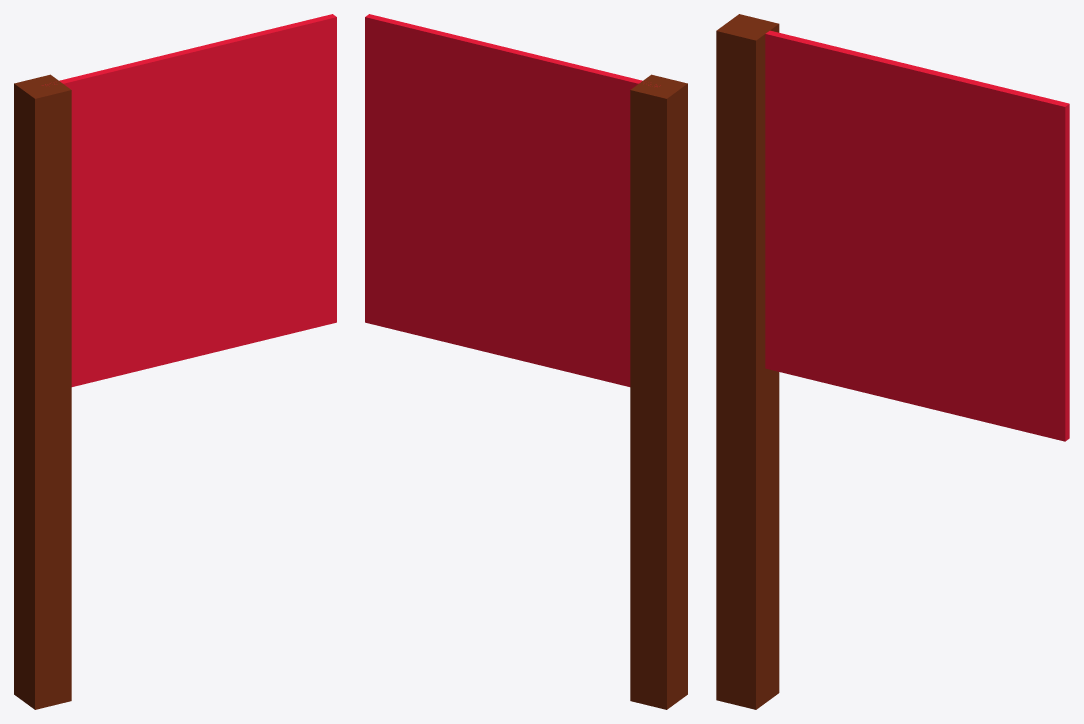
The model's file is WinFlag.fbx.
3 renders of one model, left to right at view 1: azimuth 30°, elevation 25°; view 2: azimuth 150°, elevation 25°; view 3: azimuth 330°, elevation 25°, orthographic. The views are drawn at different scales.
Parts seen in each view (by area): view 1: Cube.002, Cube.001; view 2: Cube.002, Cube.001; view 3: Cube.002, Cube.001.
Part boxes in pixels (bbox=[...]): Cube.002: bbox=[42, 14, 336, 386]; Cube.001: bbox=[14, 74, 71, 709]; Cube.002: bbox=[365, 14, 660, 386]; Cube.001: bbox=[630, 74, 687, 709]; Cube.002: bbox=[765, 30, 1069, 441]; Cube.001: bbox=[716, 14, 779, 709].
Bounding box in the file's own units: 85 × 160 × 10.
